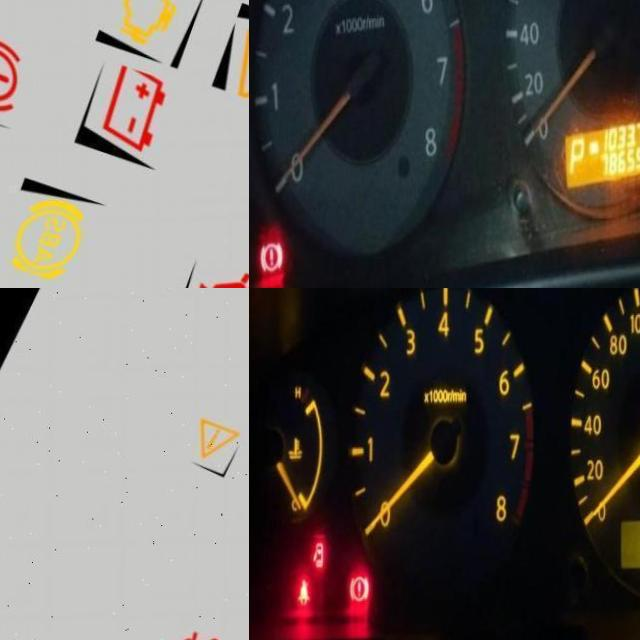Seat Belt: (299, 580, 310, 607)
